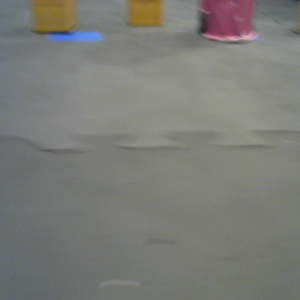Right: (197, 1, 260, 41)
